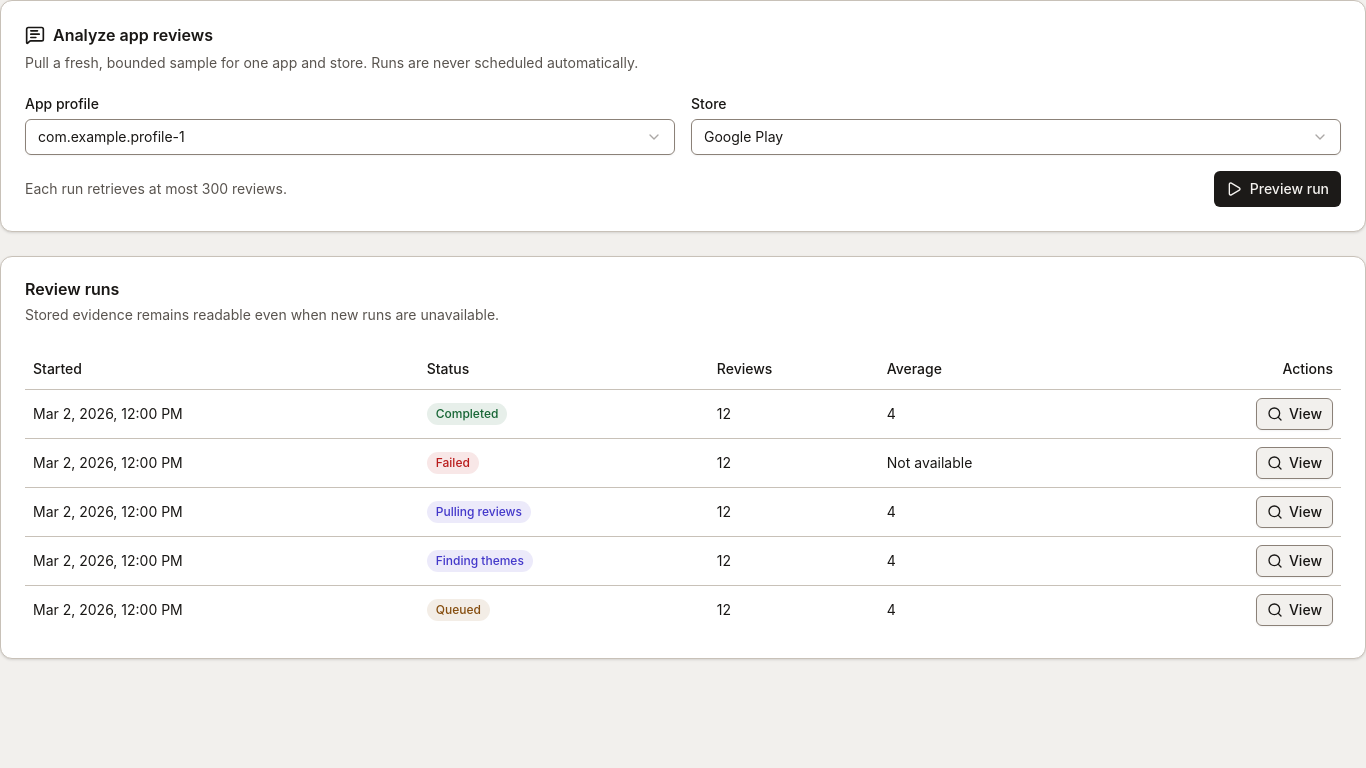
Scenario: App review analysis panel › surfaces preview and confirmation failures
Click the button "Preview run" at (1277, 189), box [1214, 171, 1341, 207]
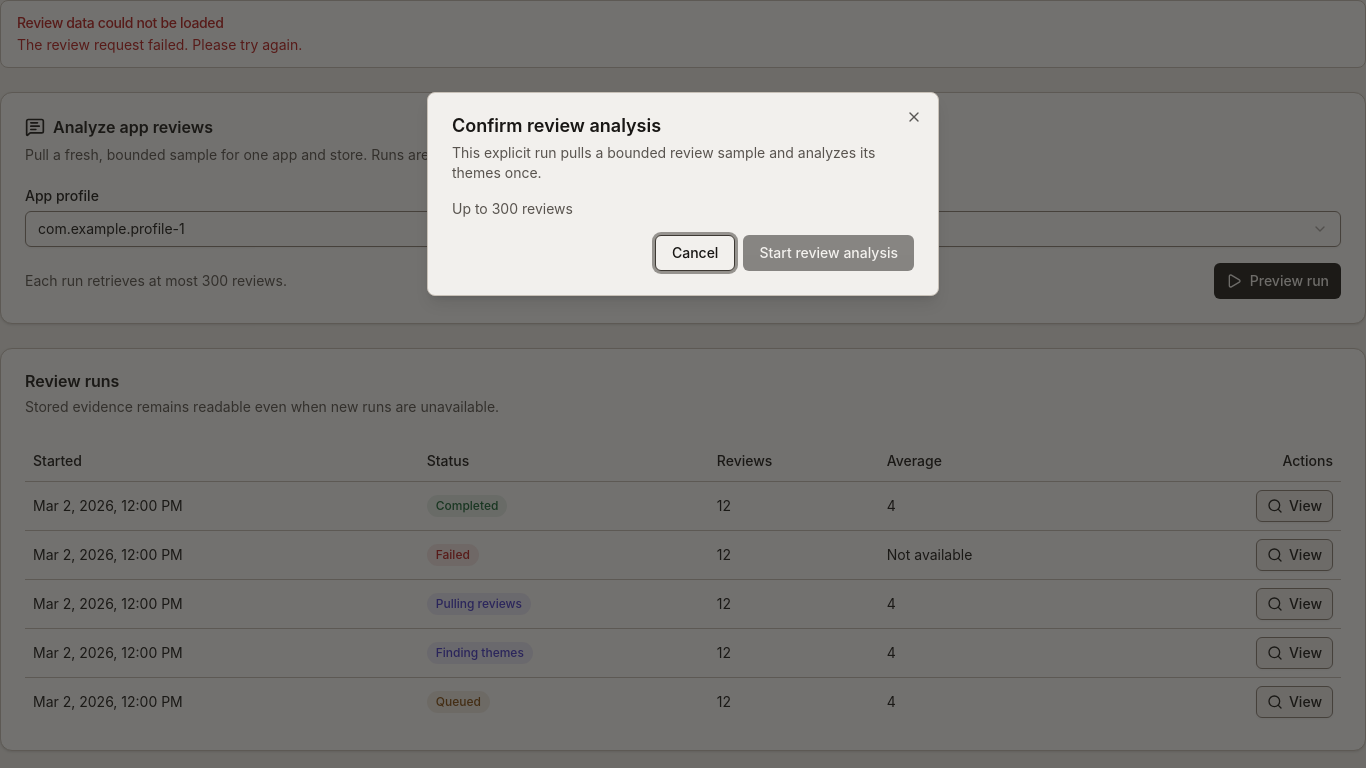
Expected: the text "The review request failed. Please try again." is shown, [17, 36, 302, 53]
Click the button "Cancel" at (695, 253), box [655, 235, 735, 271]
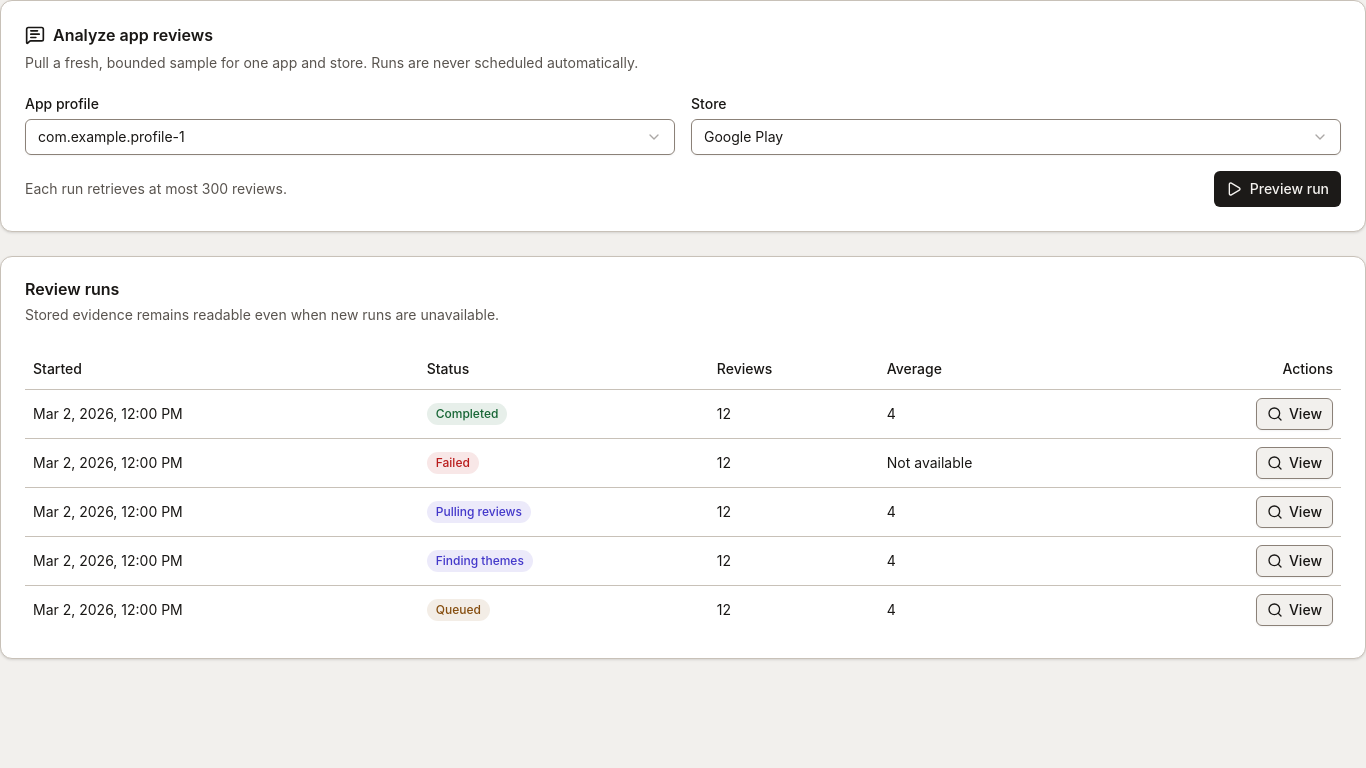
Click the button "Preview run" at (1277, 189), box [1214, 171, 1341, 207]
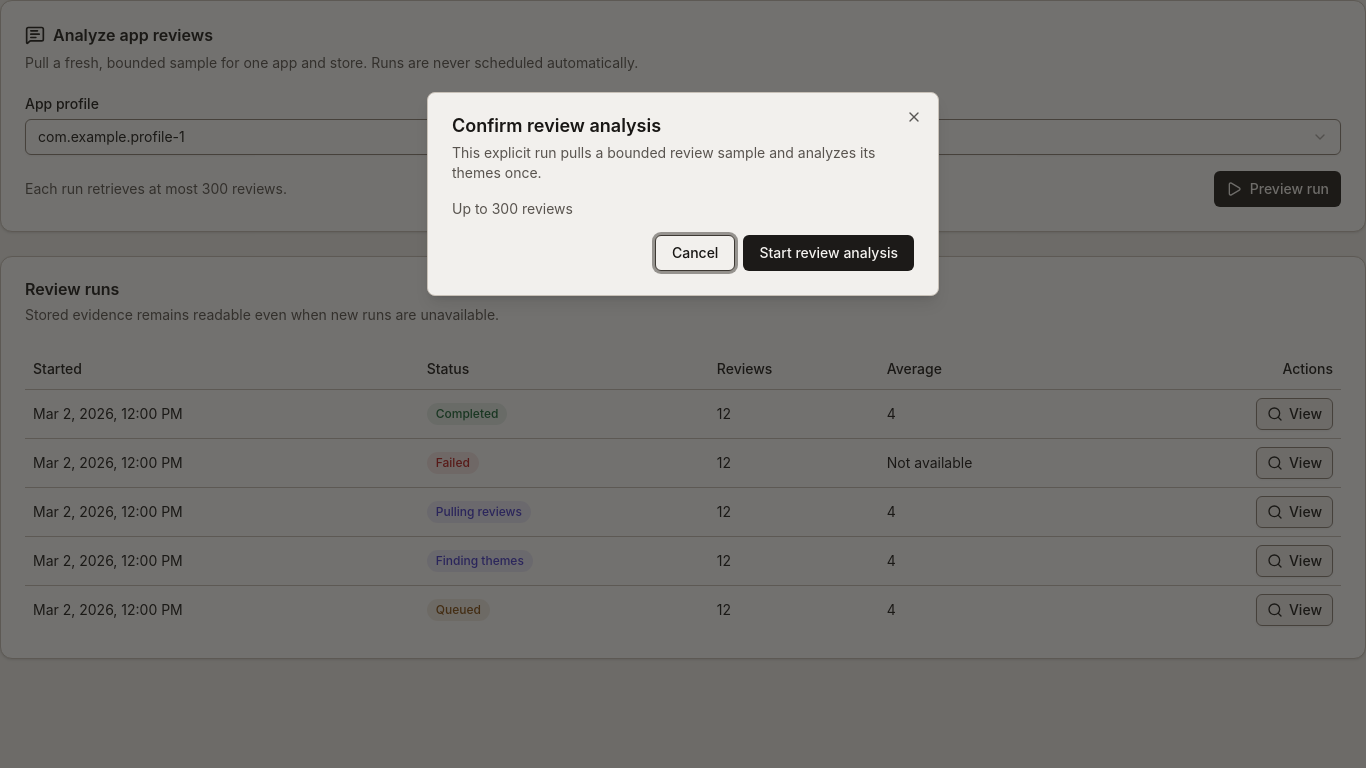
Click the button "Start review analysis" at (829, 253), box [743, 235, 914, 271]
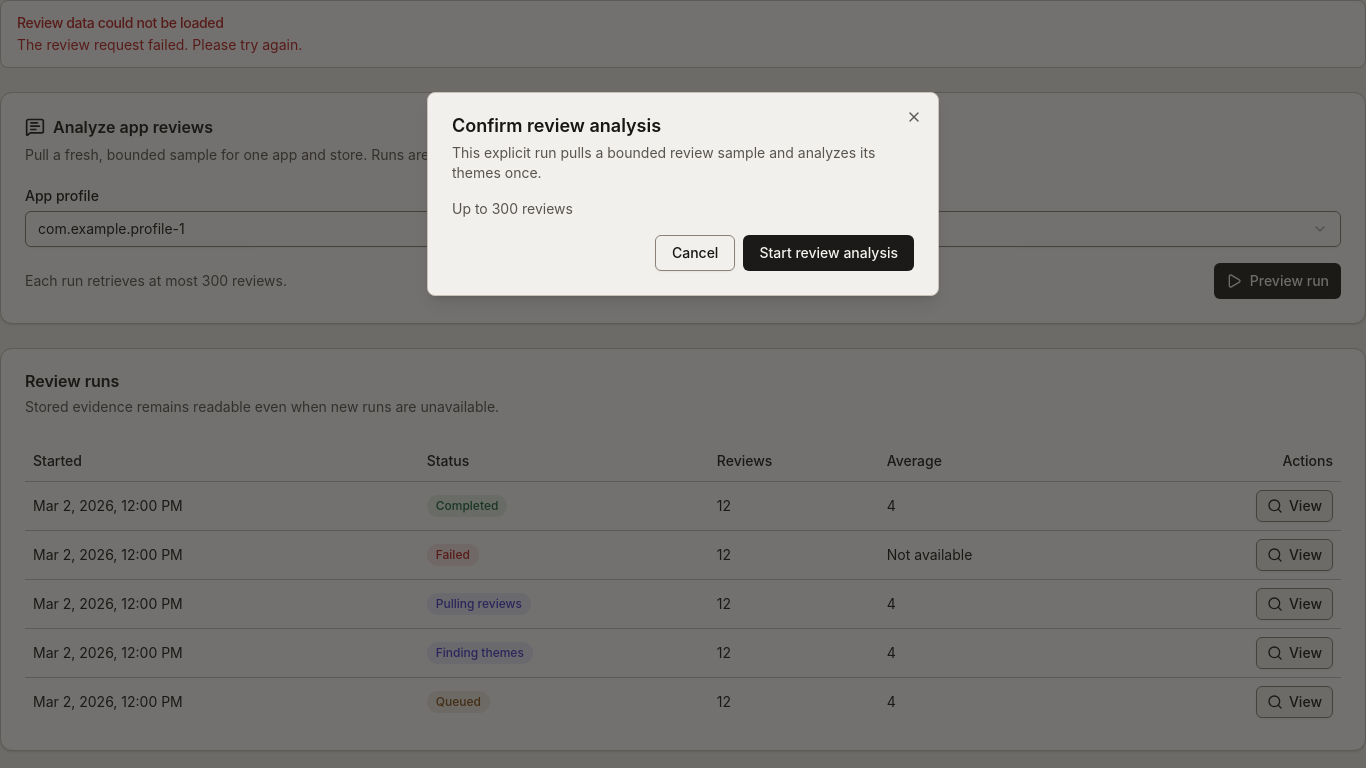
Expected: the text "The review request failed. Please try again." is shown, [17, 36, 302, 53]
